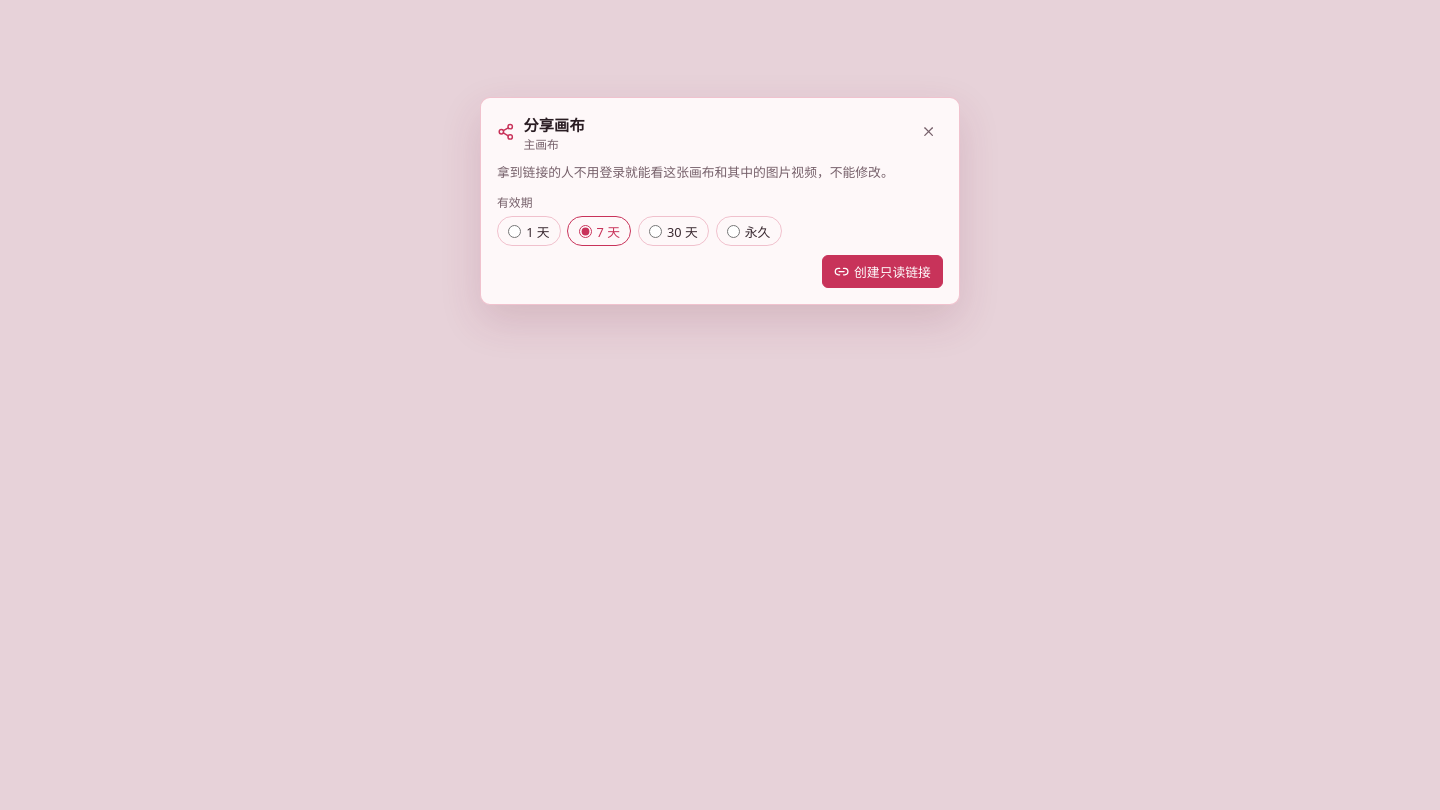
Test: CanvasShareDialog › creates a read-only link with the chosen validity and shows its full address
Expected: the dialog shows "拿到链接的人不用登录就能看这张画布和其中的图片视频，不能修改。", left=497, top=163, right=894, bottom=181
Click the radio button labelled "30 天" at x=656, y=231, box left=649, top=224, right=662, bottom=238
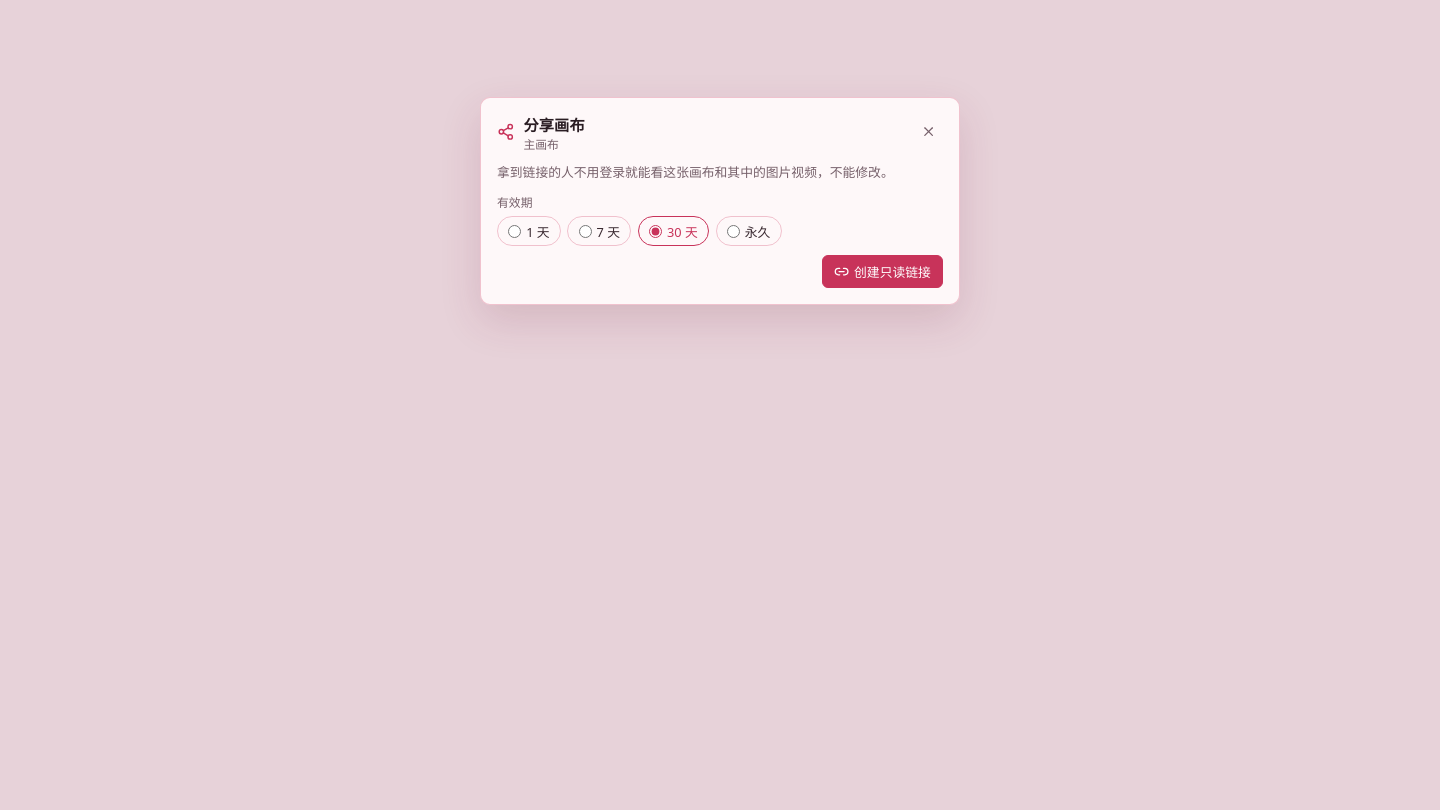
Click the button "创建只读链接" at x=882, y=272, box left=822, top=255, right=943, bottom=288
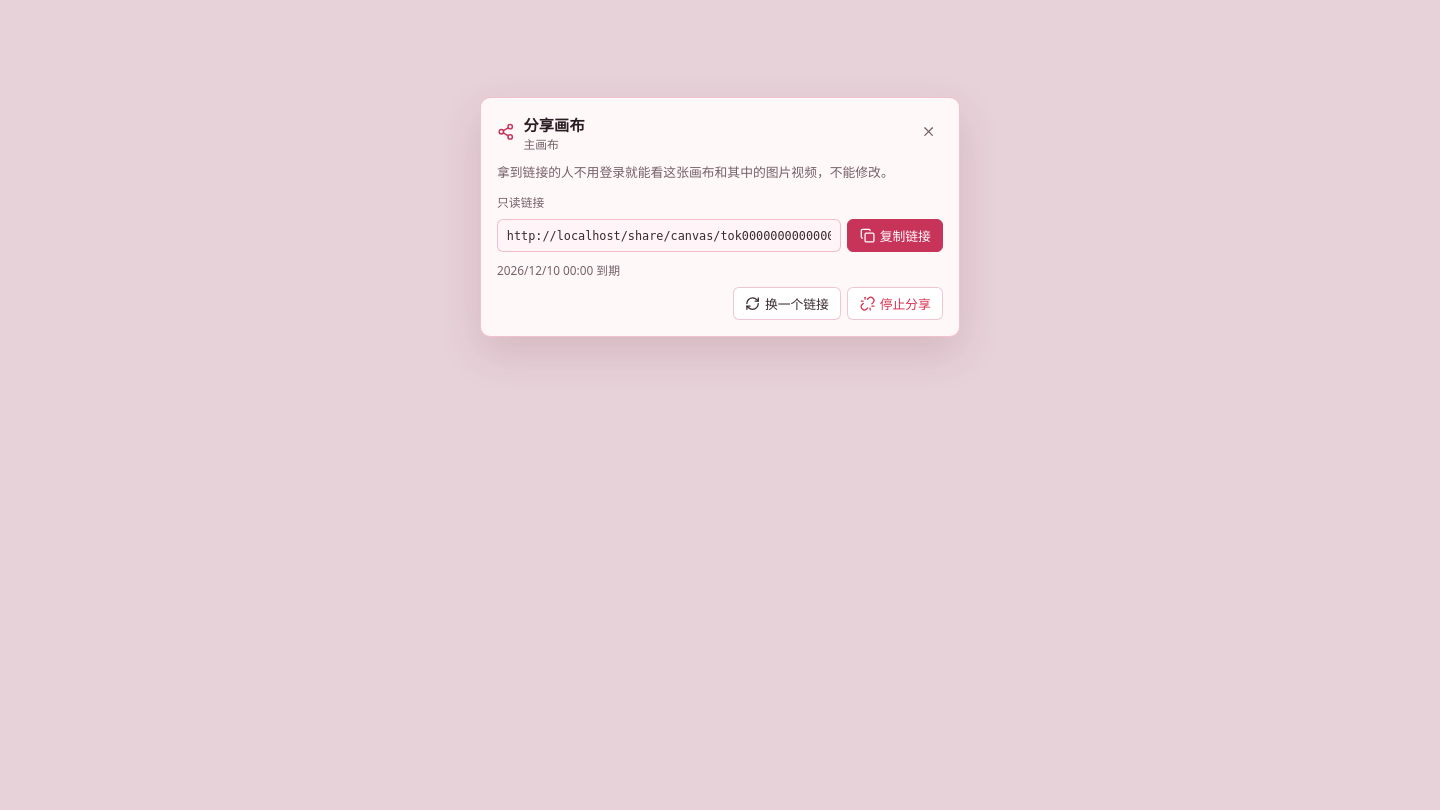
Expected: the dialog shows "到期", left=497, top=262, right=620, bottom=278
